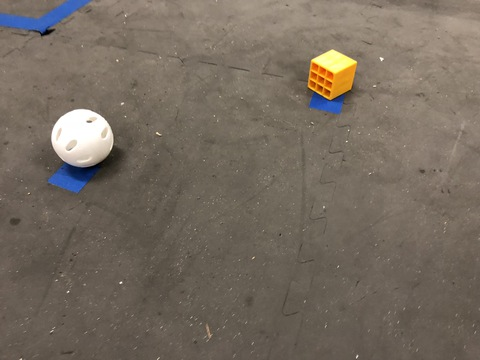ball: (40, 105, 125, 171)
block: (302, 44, 363, 100)
